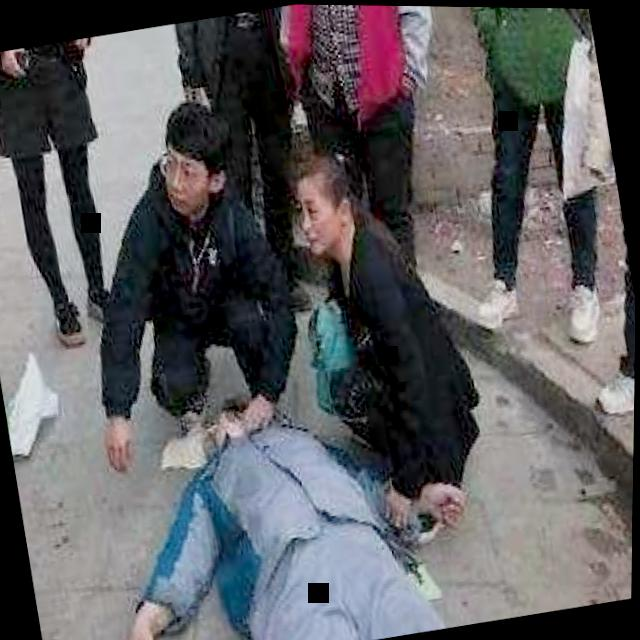Fall-Detected: (61, 330, 531, 640)
